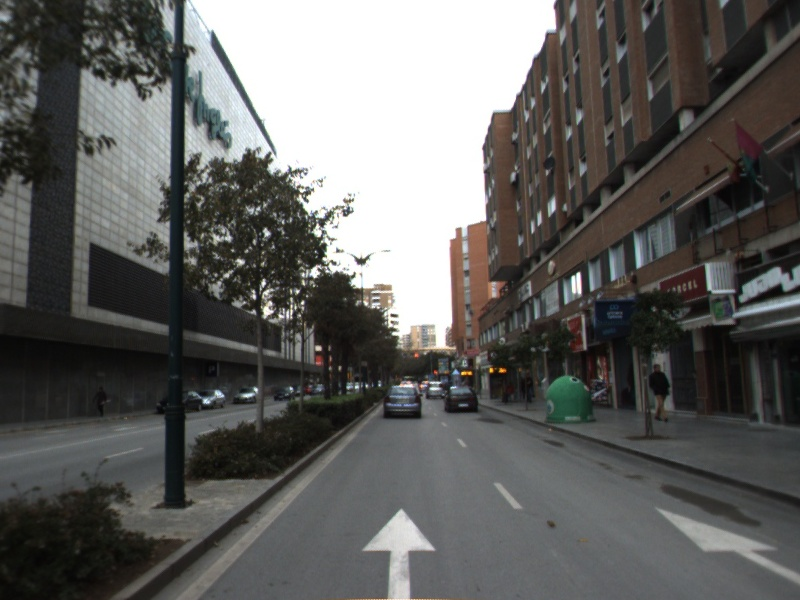STRAIGHT: (651, 503, 800, 587), (359, 505, 440, 600)
